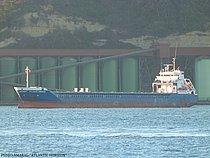Ship: (9, 62, 202, 112)
